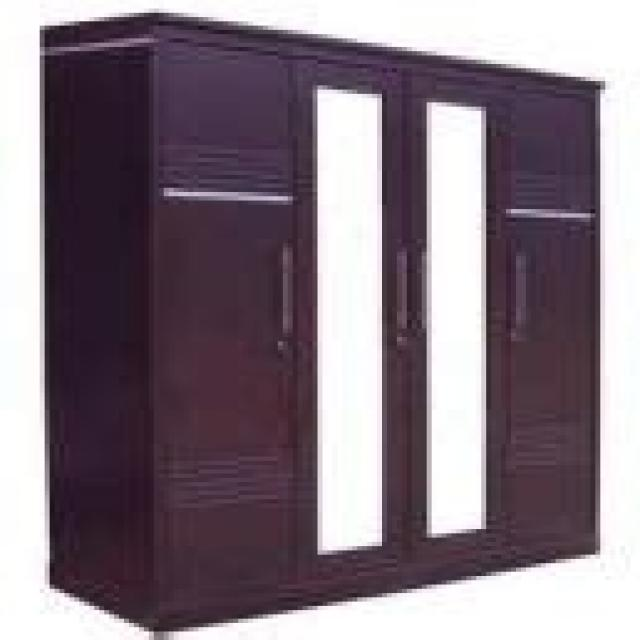Closet: (30, 7, 627, 640)
